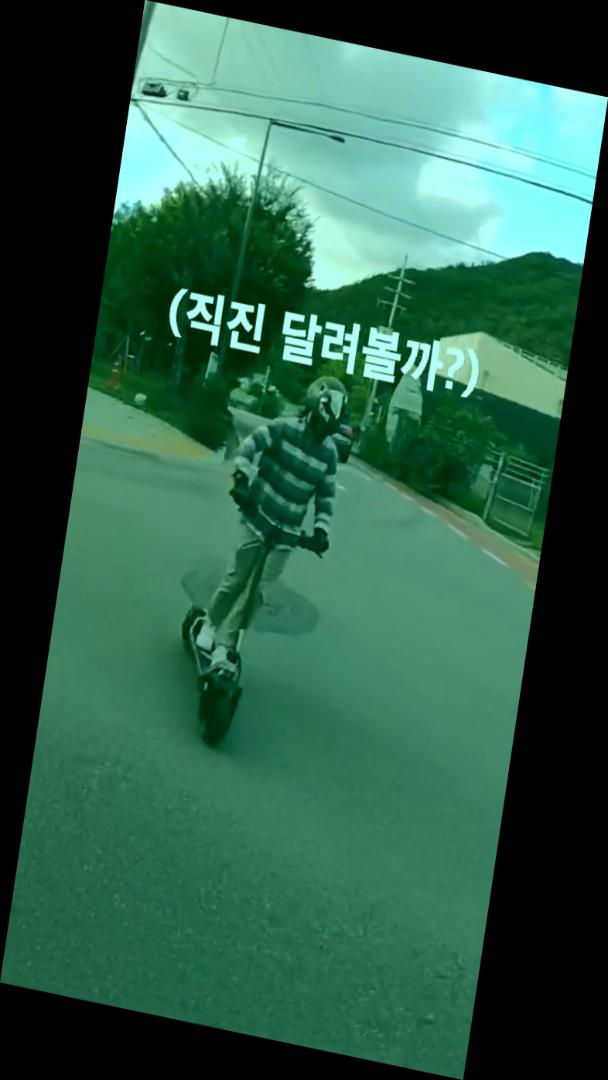helmet: (162, 350, 359, 768)
